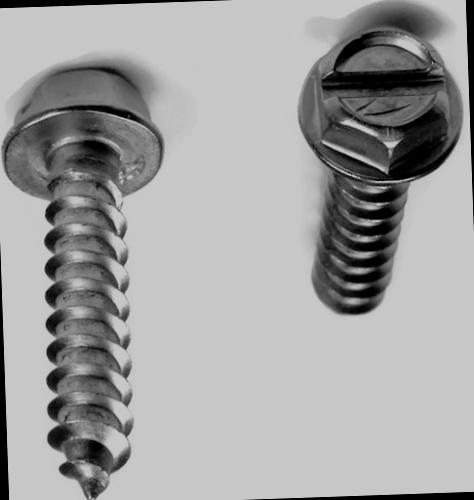screw: (305, 11, 454, 190)
